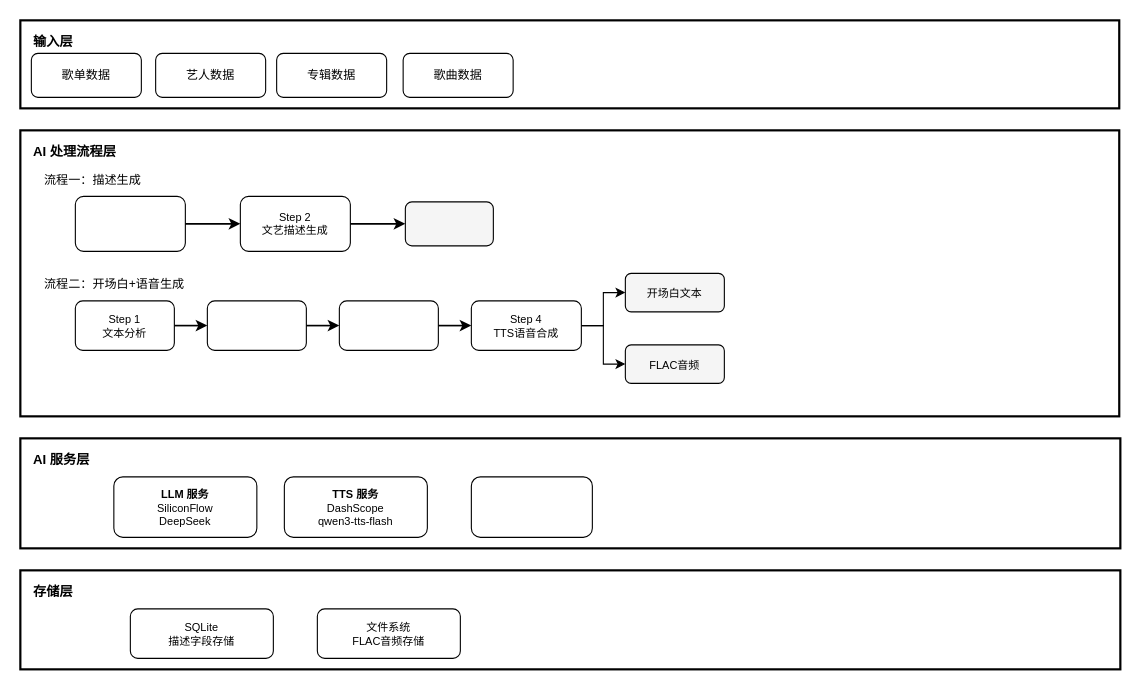
Some shapes in this 1140 by 689 pixel diagram are drawn without their labels. The box of each missing label's shape, as (x1, y1, x2, y2) in pixels:
Step 1 结构化分析: (74, 195, 185, 251)
Step 2 开场白草稿: (206, 300, 306, 350)
Step 3 脚本优化: (338, 300, 438, 350)
描述文本: (404, 201, 493, 246)
限流控制 1000RPM 50000TPM: (470, 476, 592, 537)
